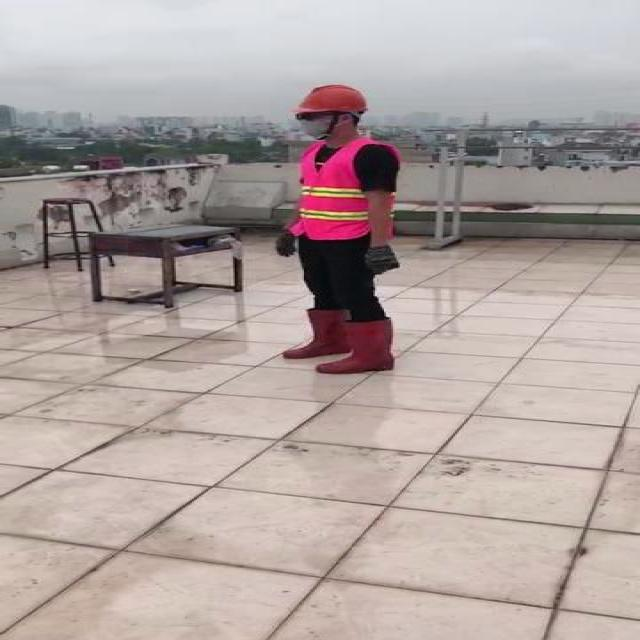boots: (318, 319, 398, 373), (284, 300, 352, 358)
face_mask: (293, 110, 338, 140)
glasses: (293, 110, 327, 124)
hand_glove: (364, 245, 396, 276), (276, 232, 298, 259)
head_helmet: (290, 83, 372, 113)
person: (266, 79, 408, 373)
vest: (284, 139, 398, 236)
